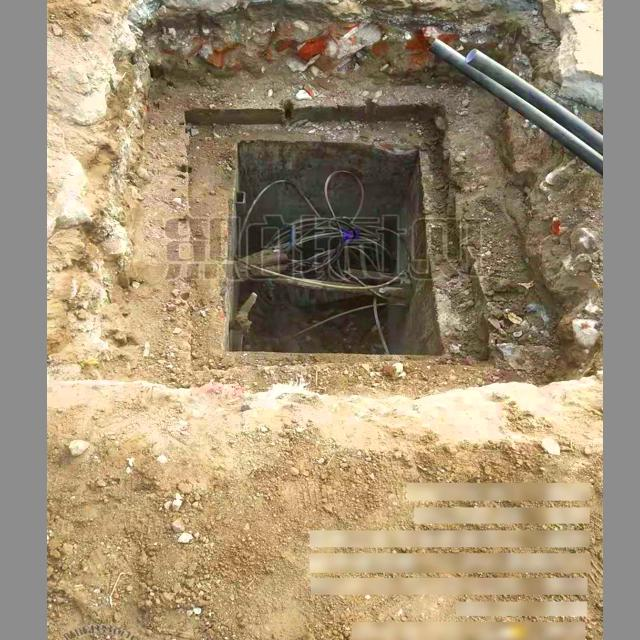lose: (224, 112, 448, 357)
